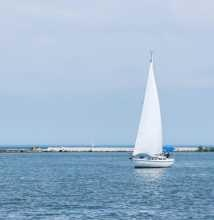fanchuan: (124, 47, 182, 169)
